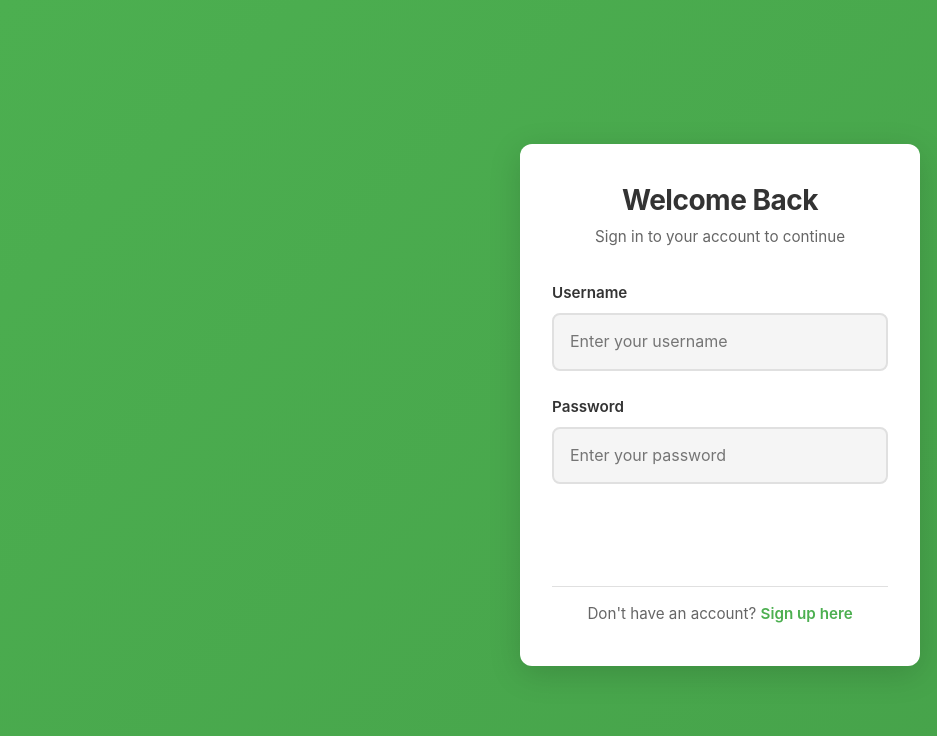
Scenario: LoginPage.vue › 5.1.4 Display generic error messages on failed login › should display error message on failed login
In the field with id "username": [720, 342] box x1=552 y1=313 x2=888 y2=370, type "testuser"
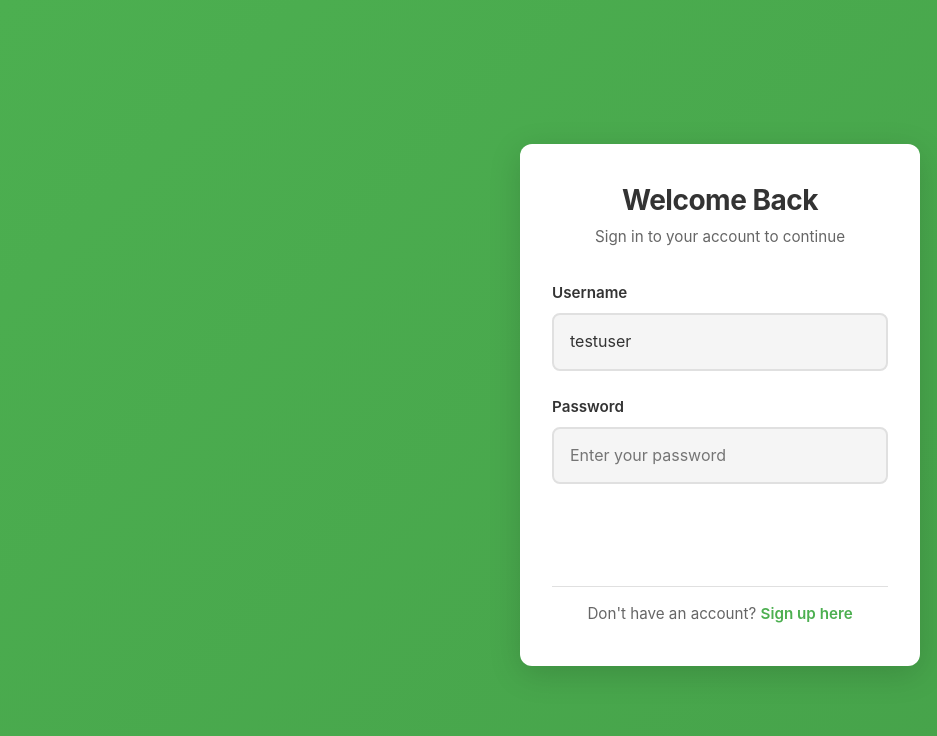
In the password field labelled "Password": [720, 456] box x1=552 y1=427 x2=888 y2=484, type "wrongpassword"
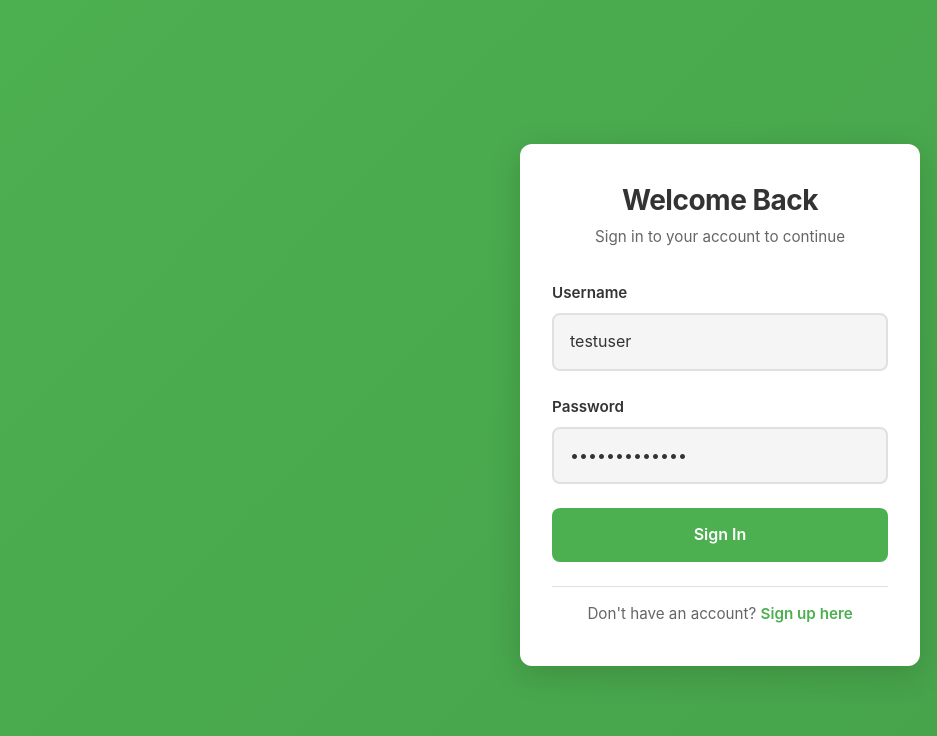
Submit the form, box x1=552 y1=281 x2=888 y2=562
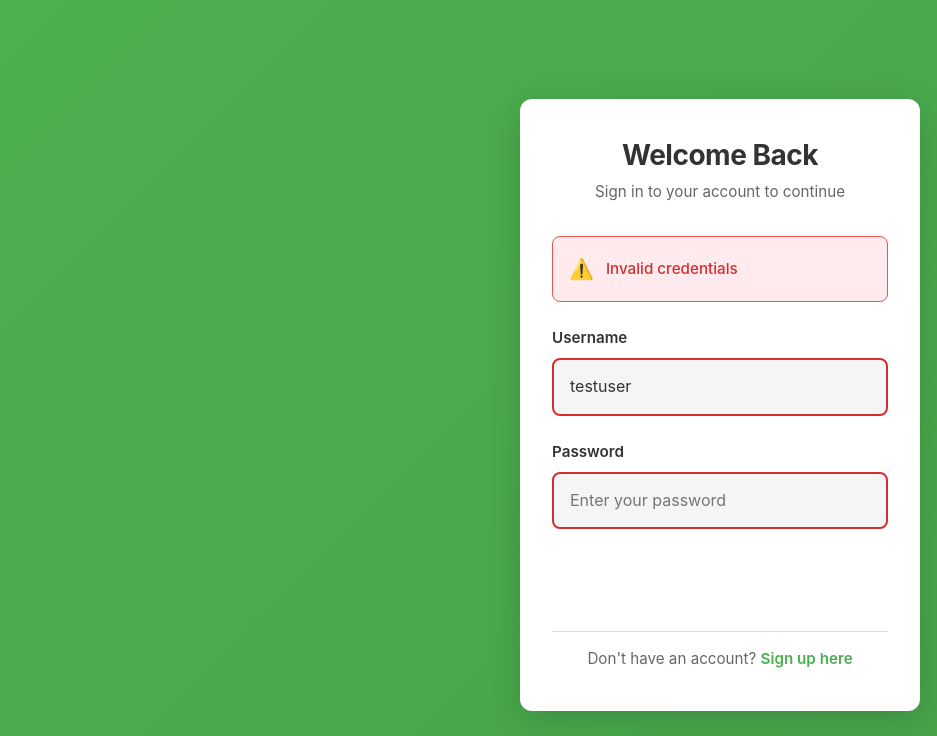
Expected: the message "⚠️ Invalid credentials" is shown, x1=552 y1=236 x2=888 y2=302
Expected: the message with class "error-message" shows "Invalid credentials", x1=606 y1=259 x2=738 y2=278
